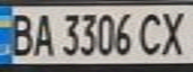0: (97, 10, 118, 57)
3: (57, 9, 81, 57), (78, 10, 100, 57)
6: (112, 9, 139, 56)
A: (30, 9, 57, 57)
B: (3, 10, 36, 57)
C: (136, 9, 166, 56)
X: (154, 7, 193, 57)
